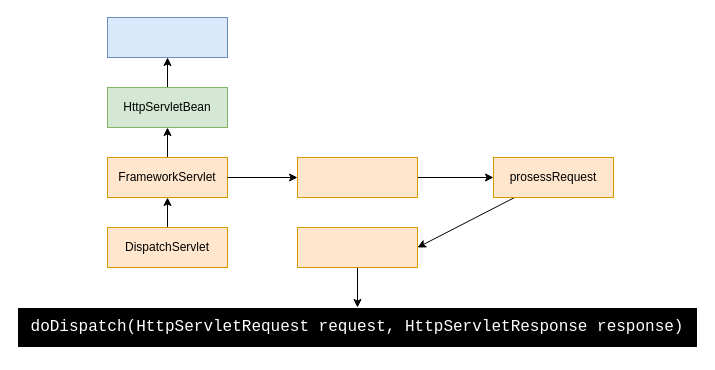
Image size: 715x370. Some labels were removed from this diagram. The centre of each missing label's shape, as x and y in pixels:
doGet doPost: pixel 357 177
doService: pixel 357 247
HttpServlet: pixel 167 37
